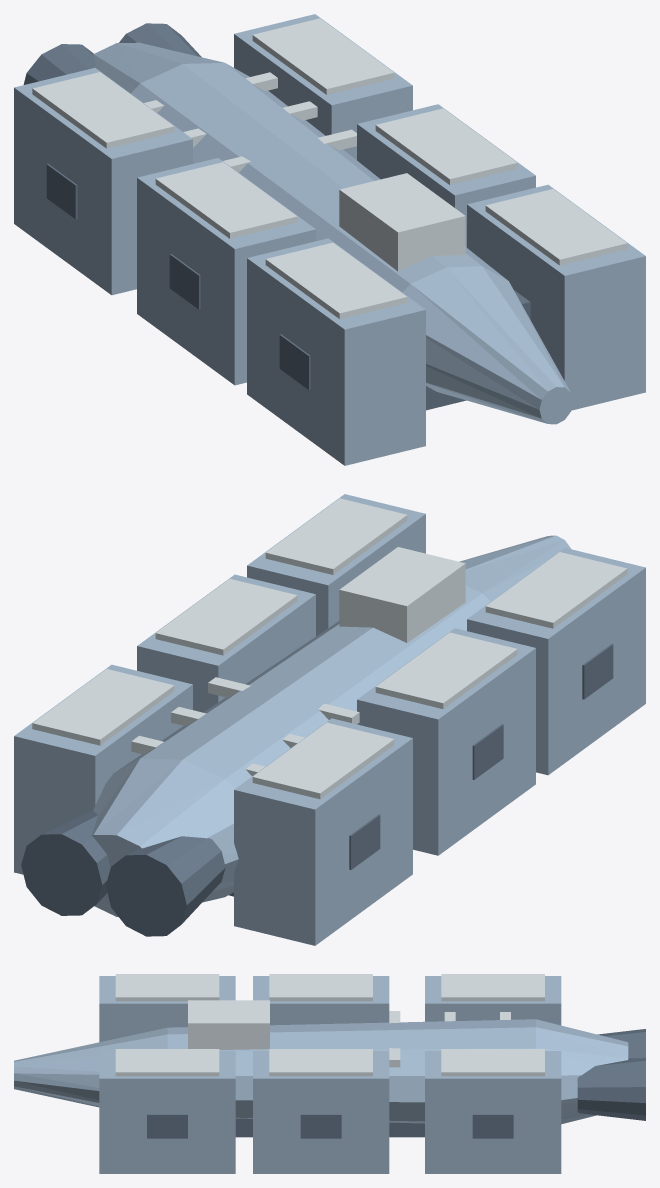
3 views of the same model, one above another, from view 1: azimuth 30°, elevation 25°; view 2: azimuth 150°, elevation 25°; view 3: azimuth 270°, elevation 25° (orthographic). The views are drawn at different scales.
Size of the model in its own units: 3.82 by 1.9 by 9.82.
